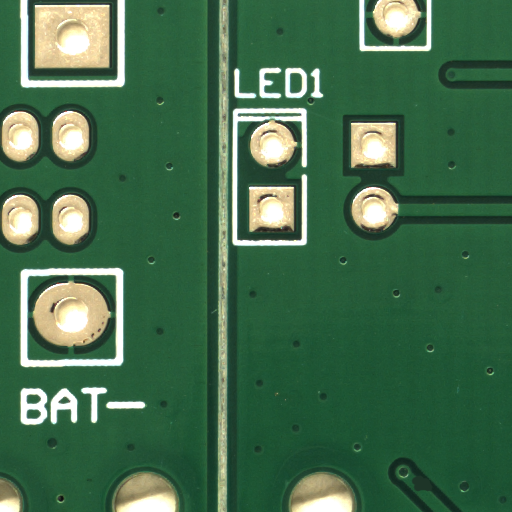Mouse_bite: (423, 484, 444, 499)
